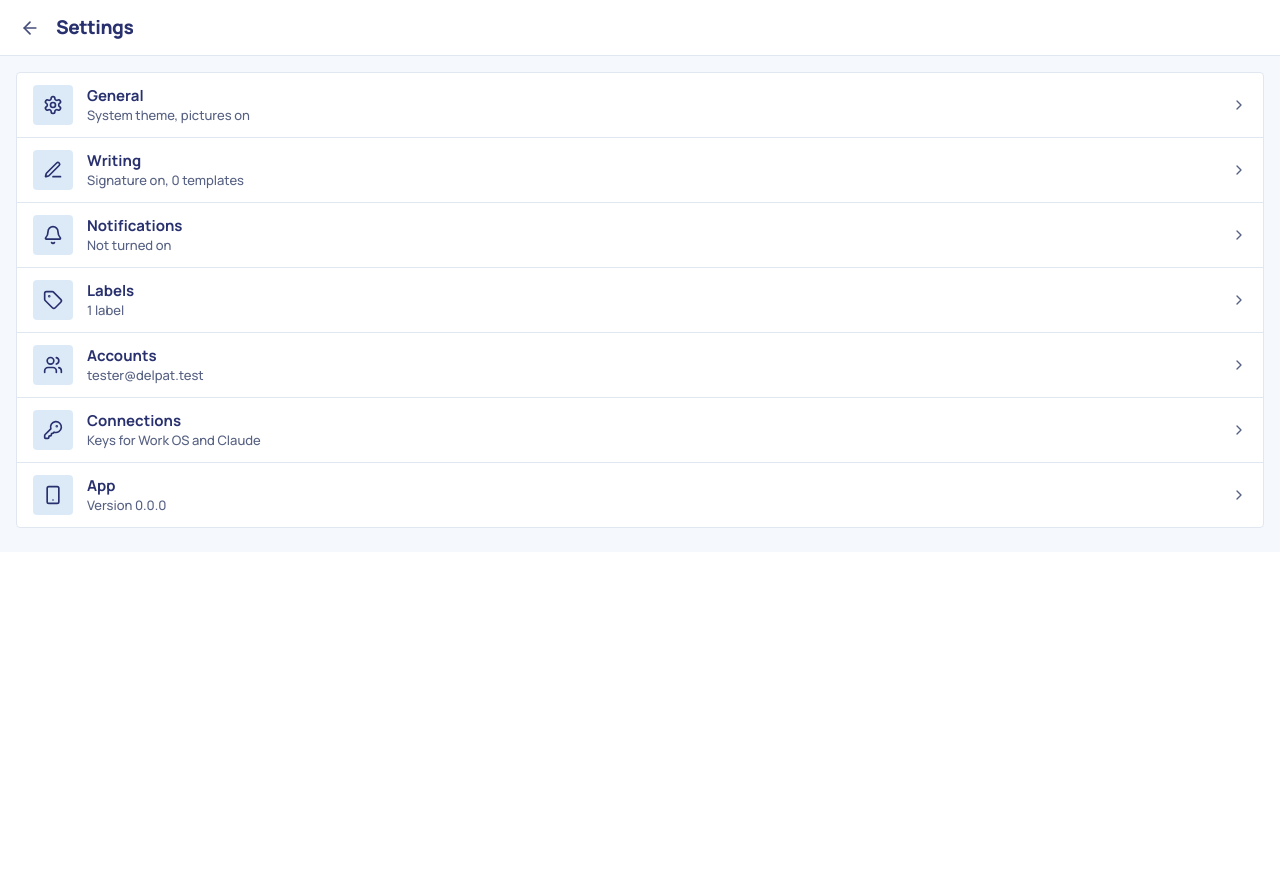
Test: Settings on a phone › shows the list with a one-line summary, opens a section, and goes back one step at a time
The width and height of the screenshot is (1280, 888).
Later steps or results of the test are not shown.
Expected: the heading "Settings" is shown, [56,14,133,41]
Expected: the button "General System theme, pictures on" is shown, [17,73,1263,137]
Step 1. Click the button "Writing Signature on, 0 templates" → (53, 170), box [17,138,1263,202]
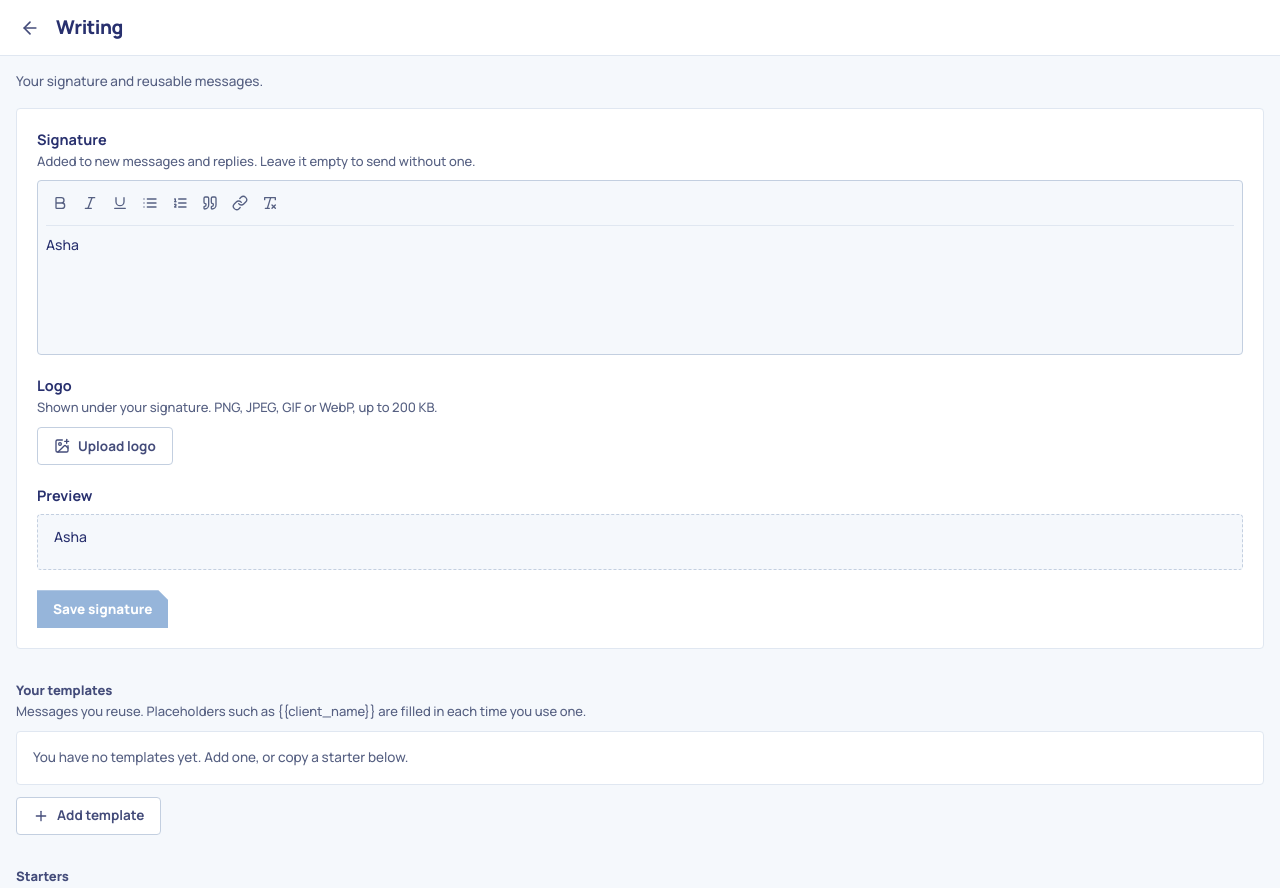
Expected: the heading "Writing" is shown, [56,14,123,41]
Step 2. Click the button named "Back to Settings" → (30, 28), box [8,6,52,50]
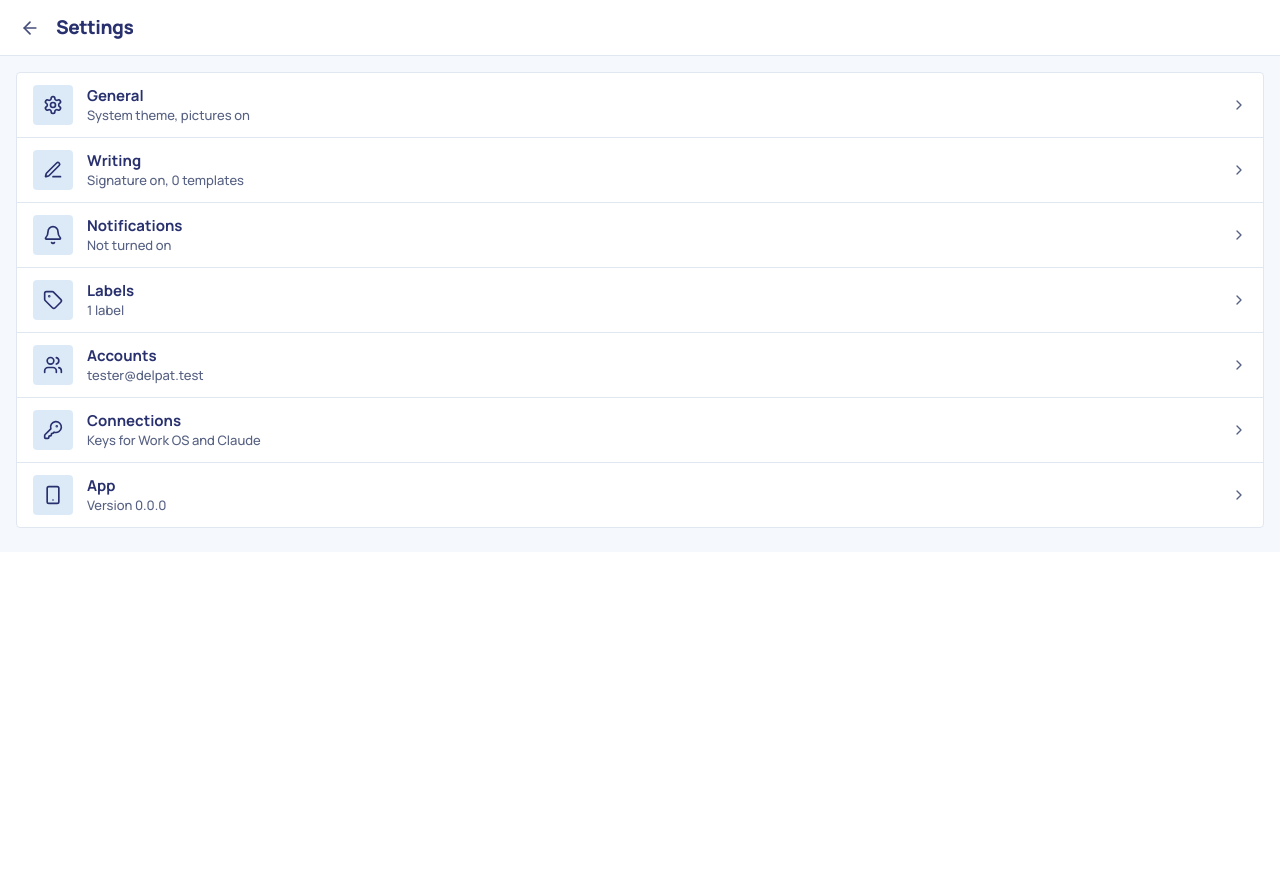
Expected: the heading "Settings" is shown, [56,14,133,41]
Step 3. Click the button "General System theme, pictures on" → (53, 105), box [17,73,1263,137]
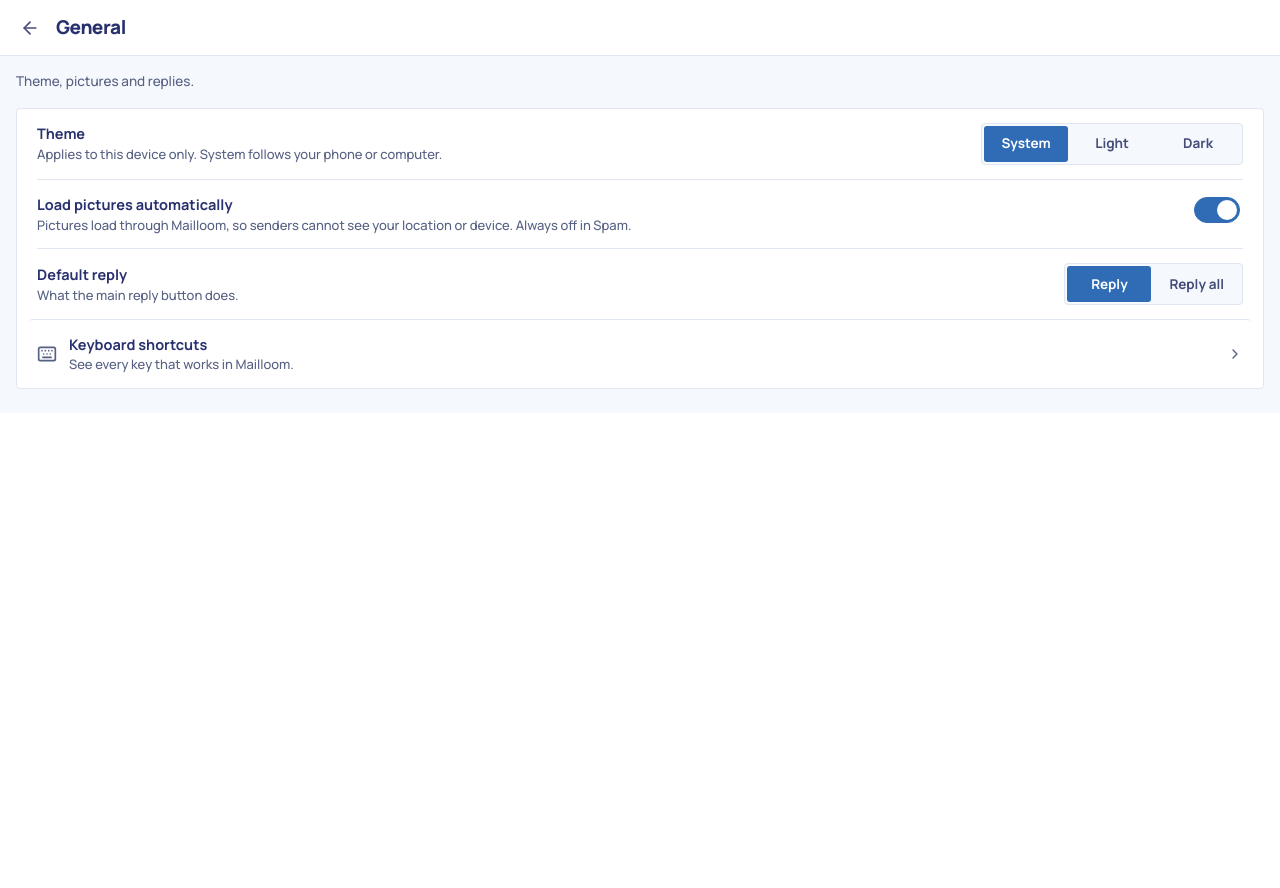
Step 4. Press Escape
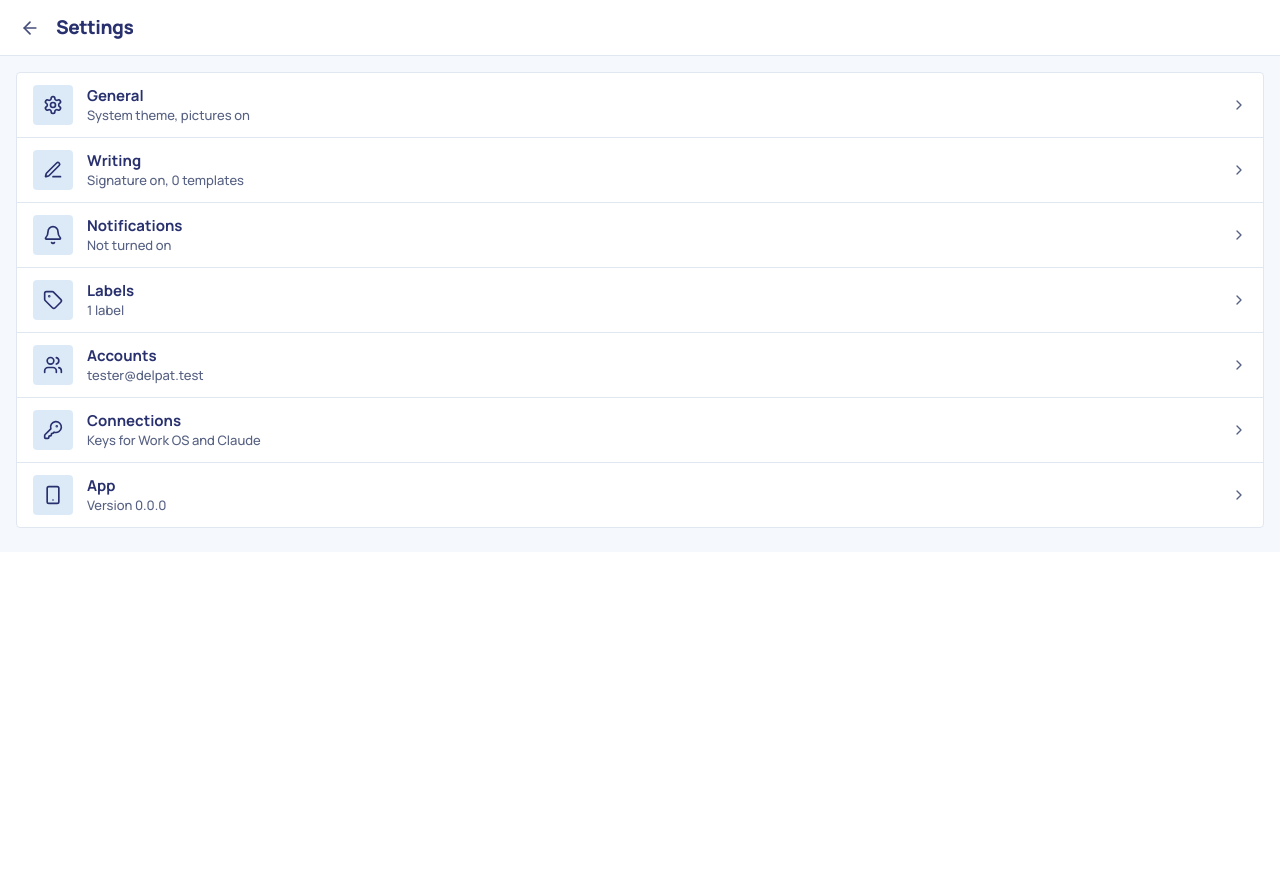
Expected: the heading "Settings" is shown, [56,14,133,41]
